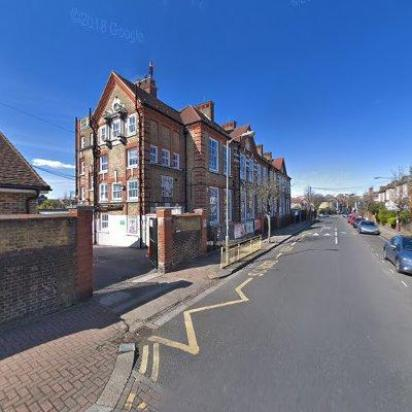stationary-car-onstreet: (382, 233, 412, 275), (356, 219, 382, 236)
